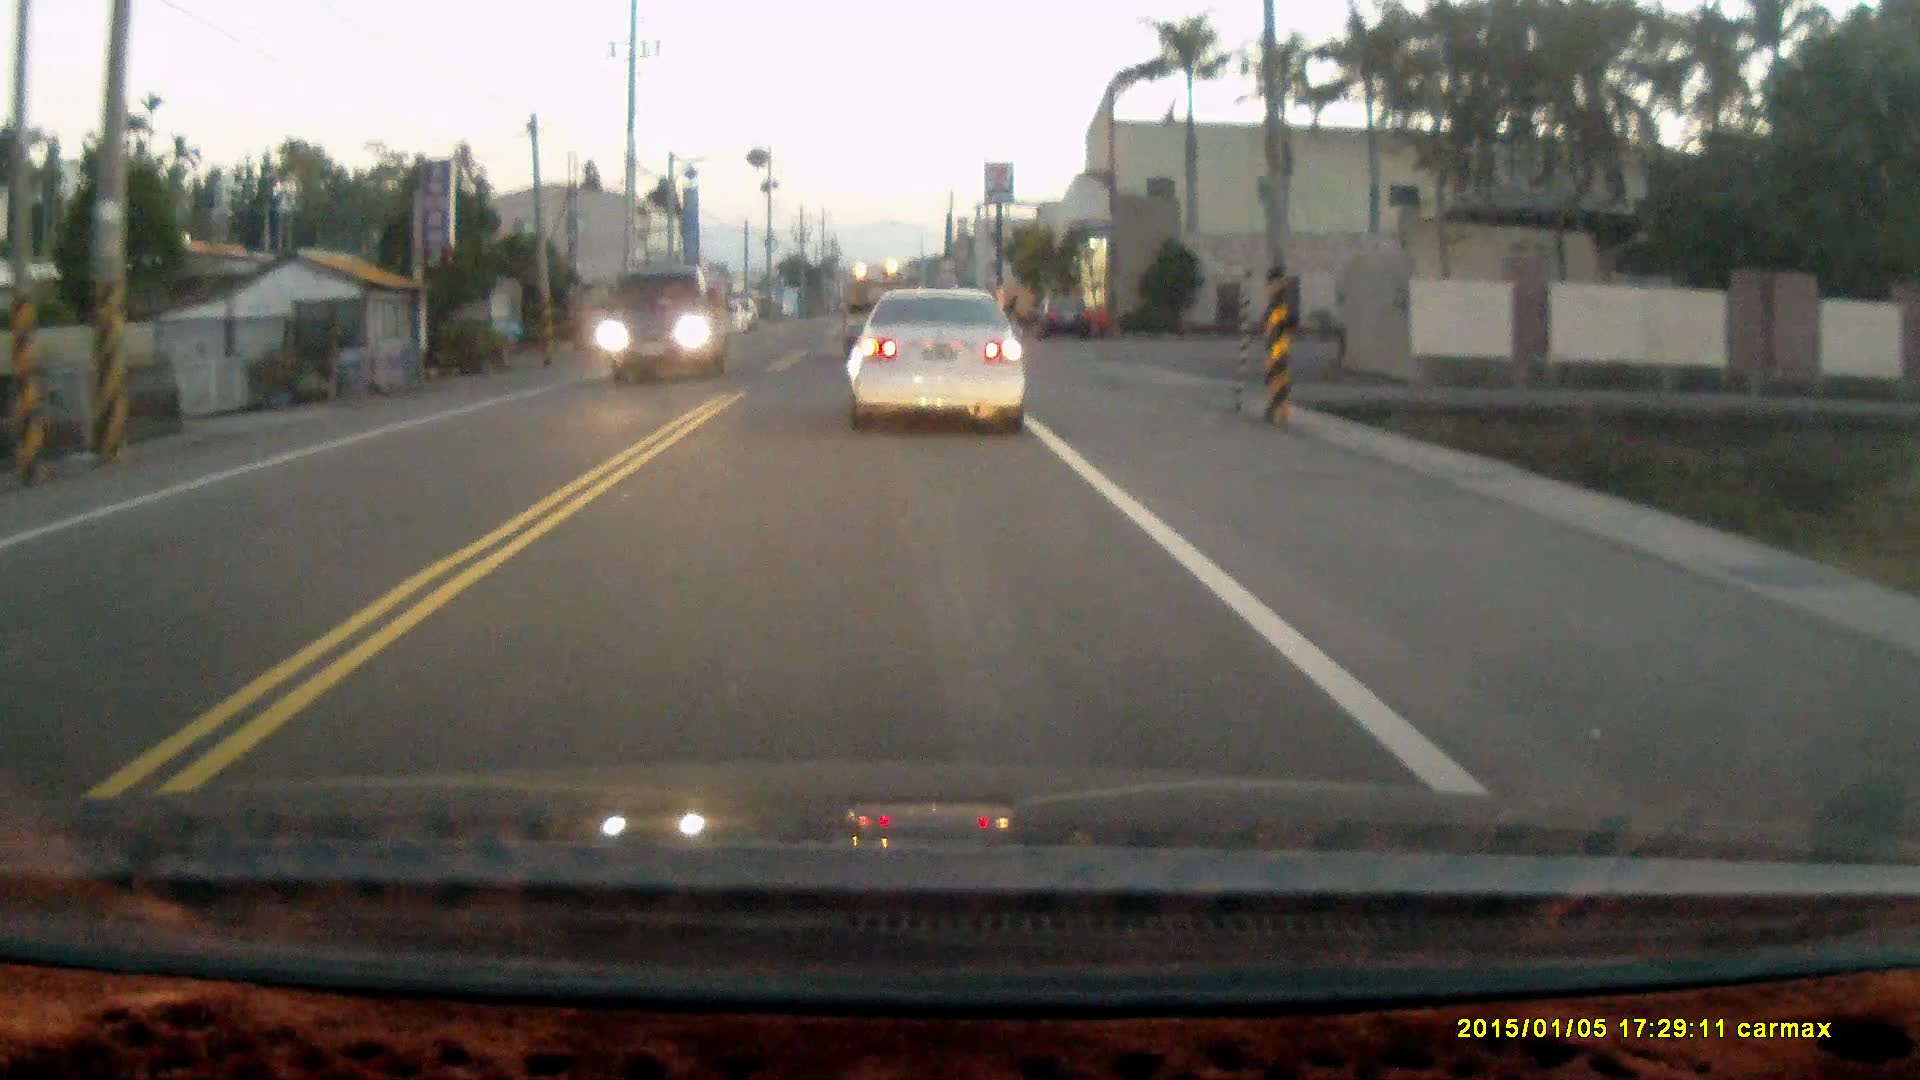vehicle: (855, 286, 1029, 440), (601, 268, 738, 386), (1036, 290, 1096, 340), (711, 299, 760, 335)
